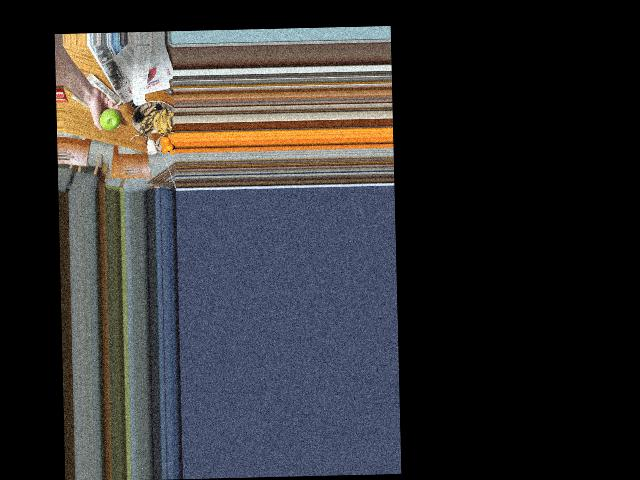apple: (100, 104, 120, 135)
